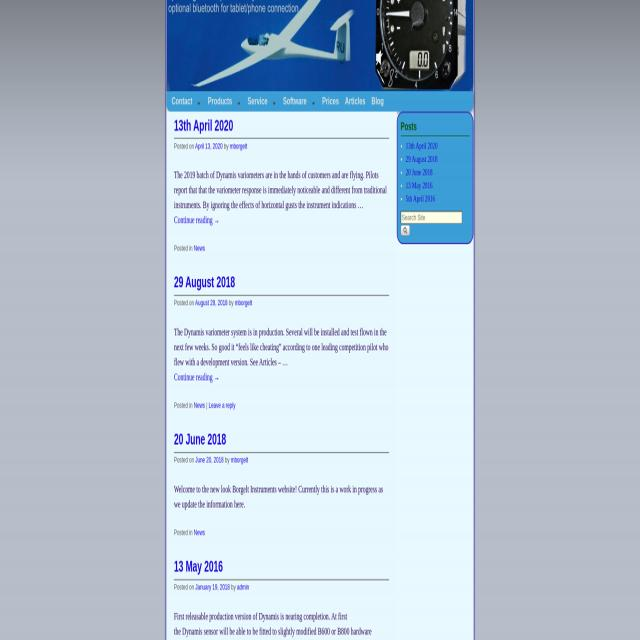button: (166, 0, 474, 91), (205, 91, 245, 112), (280, 91, 319, 112), (168, 91, 205, 112), (244, 91, 280, 112), (342, 91, 368, 112), (319, 91, 342, 112), (368, 91, 387, 112), (400, 225, 410, 236)
field: (401, 212, 462, 223)
